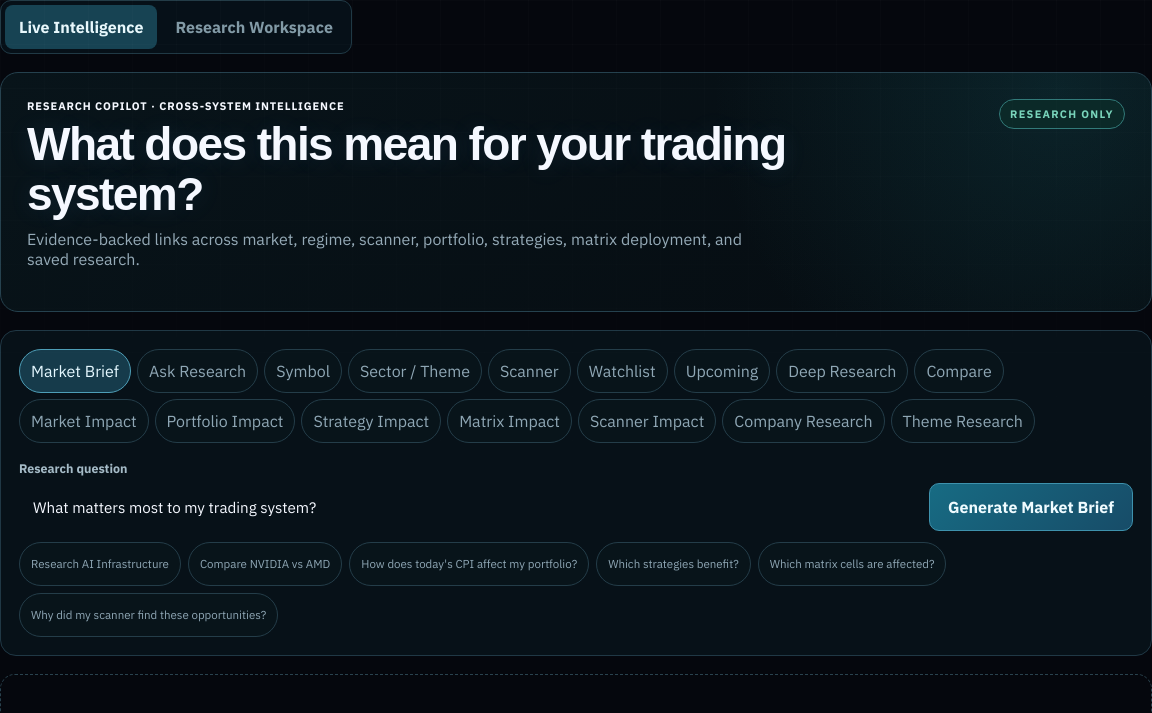
ResearchPage › validates required research input
Step 1. Click the button "Symbol" → (303, 370), box [264,348,342,392]
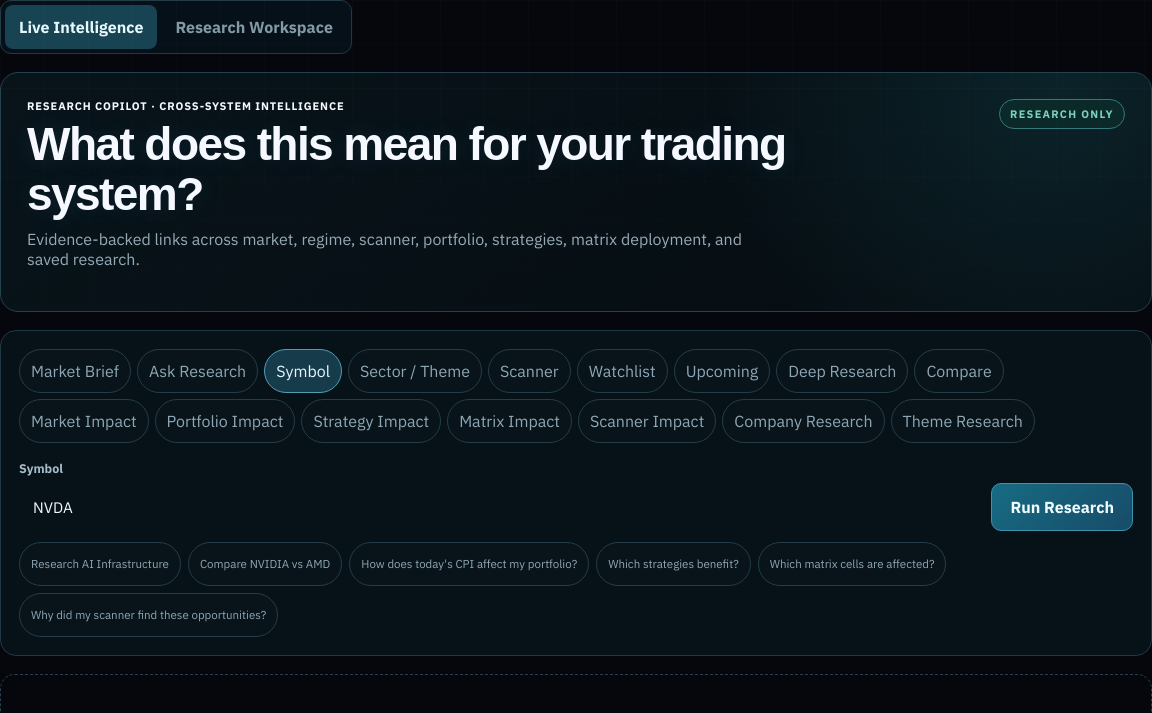
Step 2. Click the button "Run Research" → (1062, 506), box [992,482,1133,530]
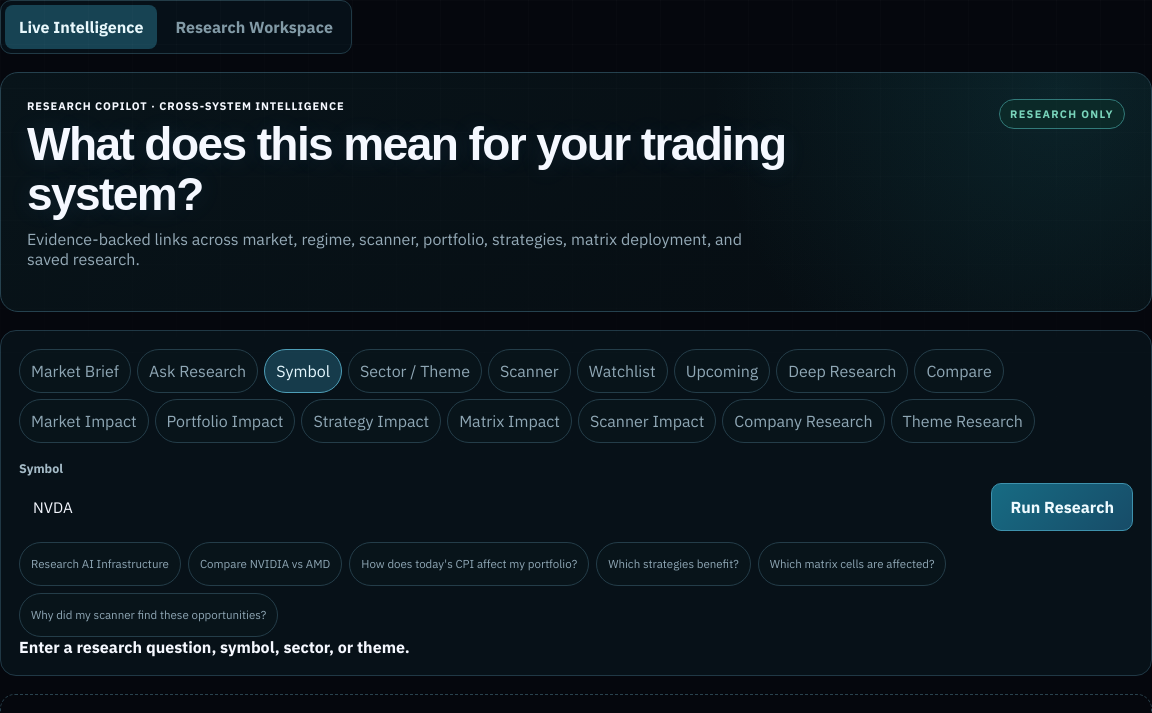
Expected: the text "Enter a research question, symbol, sector, or theme." is shown, [19,636,410,656]
